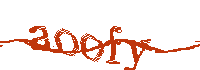a: (28, 24, 51, 53)
f: (105, 23, 123, 67)
o: (80, 31, 106, 65), (52, 26, 79, 58)
y: (124, 37, 152, 70)
